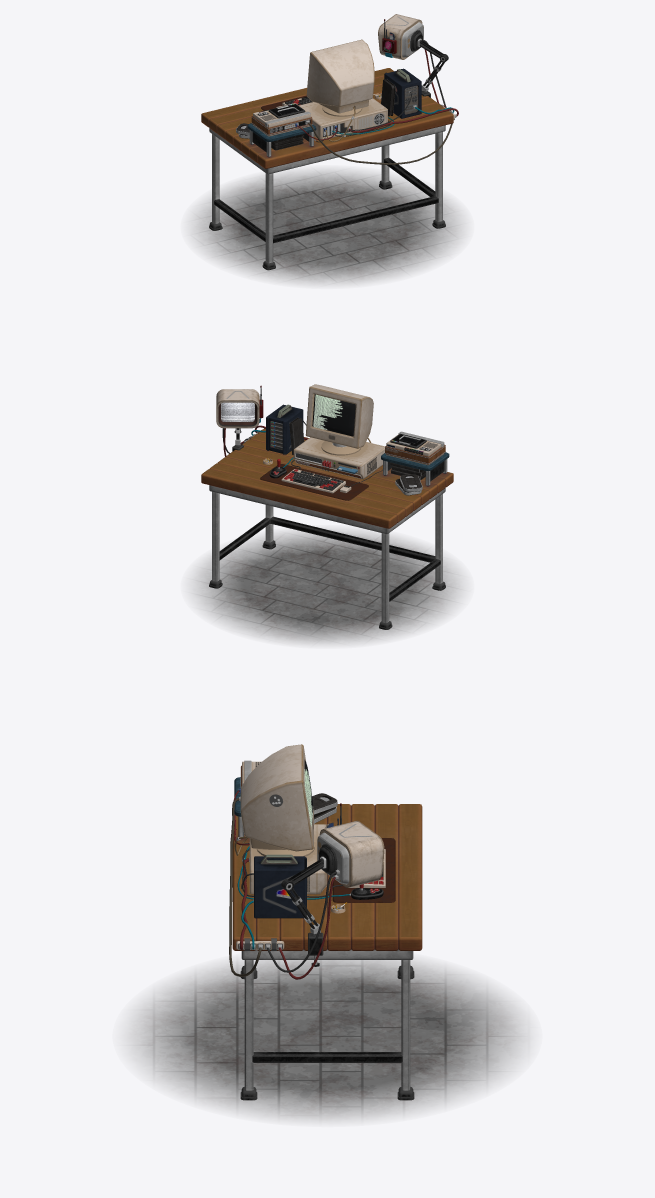
Rendered from hackerroom.gltf.
3 renders of one model, top to bottom at view 1: azimuth 30°, elevation 25°; view 2: azimuth 150°, elevation 25°; view 3: azimuth 270°, elevation 25°, orthographic. The views are drawn at different scales.
Visible parts, largest first — view 1: Ground, table, computer, Cables, Tv, vhs, server, props, shelf, arm; view 2: Ground, table, computer, screen, vhs, server, props, Tv, peripherals, keyboard_mat, shelf; view 3: Ground, table, computer, Tv, Cables, server, arm, keyboard_mat, props, peripherals.
Part boxes in pixels (bbox=[...]): Ground: bbox=[190, 169, 464, 284]; table: bbox=[201, 68, 453, 270]; computer: bbox=[299, 39, 387, 140]; Cables: bbox=[295, 39, 458, 164]; Tv: bbox=[378, 14, 423, 59]; vhs: bbox=[251, 103, 312, 136]; server: bbox=[384, 68, 421, 118]; props: bbox=[236, 79, 395, 150]; shelf: bbox=[247, 123, 316, 157]; arm: bbox=[410, 30, 448, 97]; Ground: bbox=[190, 529, 464, 644]; table: bbox=[201, 428, 453, 629]; computer: bbox=[293, 384, 384, 479]; screen: bbox=[221, 394, 355, 436]; vhs: bbox=[385, 431, 445, 465]; server: bbox=[266, 404, 303, 454]; props: bbox=[263, 417, 425, 495]; Tv: bbox=[216, 385, 263, 428]; peripherals: bbox=[269, 459, 351, 493]; keyboard_mat: bbox=[260, 464, 368, 500]; shelf: bbox=[381, 452, 449, 486]; Ground: bbox=[126, 959, 528, 1121]; table: bbox=[232, 804, 422, 1100]; computer: bbox=[240, 744, 327, 894]; Tv: bbox=[317, 803, 384, 887]; Cables: bbox=[229, 788, 350, 979]; server: bbox=[254, 854, 306, 918]; arm: bbox=[281, 844, 337, 966]; keyboard_mat: bbox=[332, 838, 395, 902]; props: bbox=[312, 793, 346, 913]; peripherals: bbox=[349, 849, 385, 899].
Bounding box in the file's own units: 272 × 119 × 245.
Materials: 14 (14 with a texture image).
